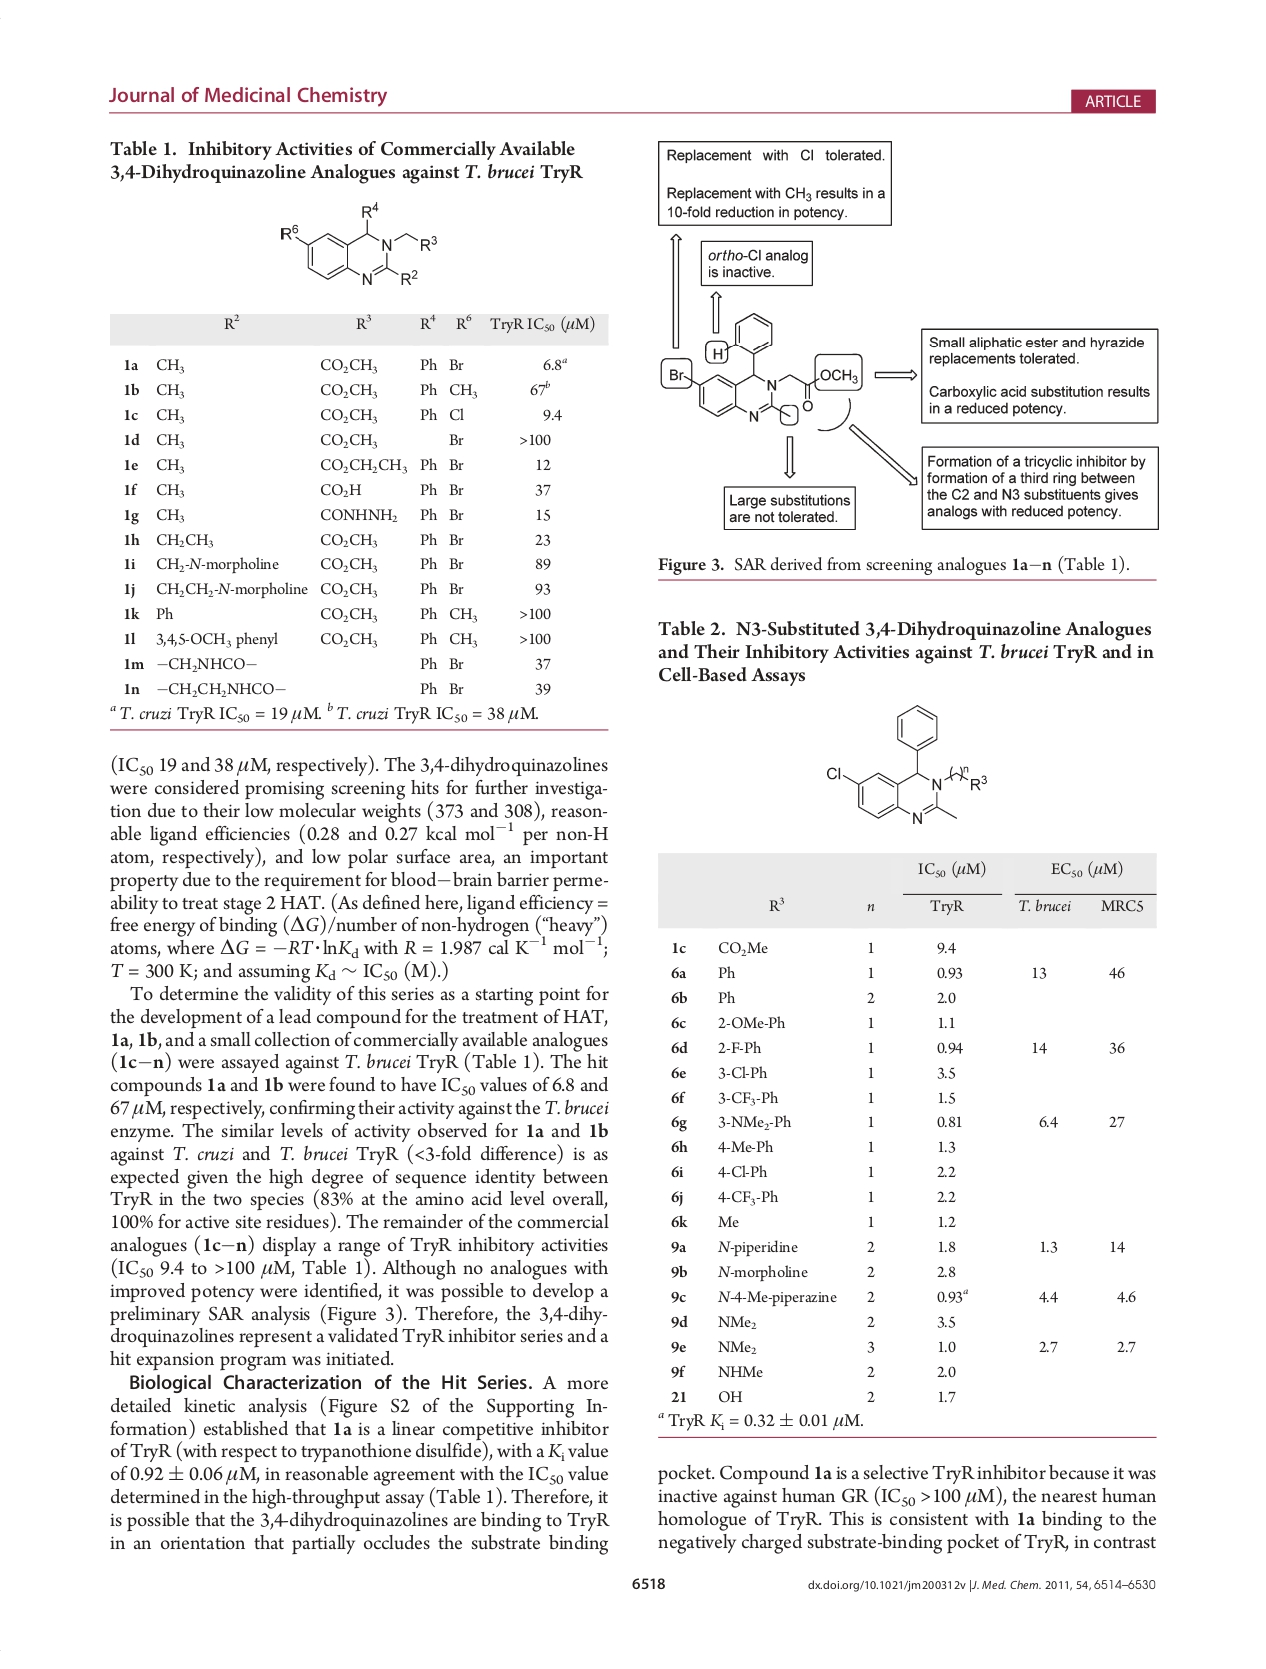exist_molecular: (668, 310, 862, 430), (826, 704, 988, 825), (278, 202, 442, 289)
